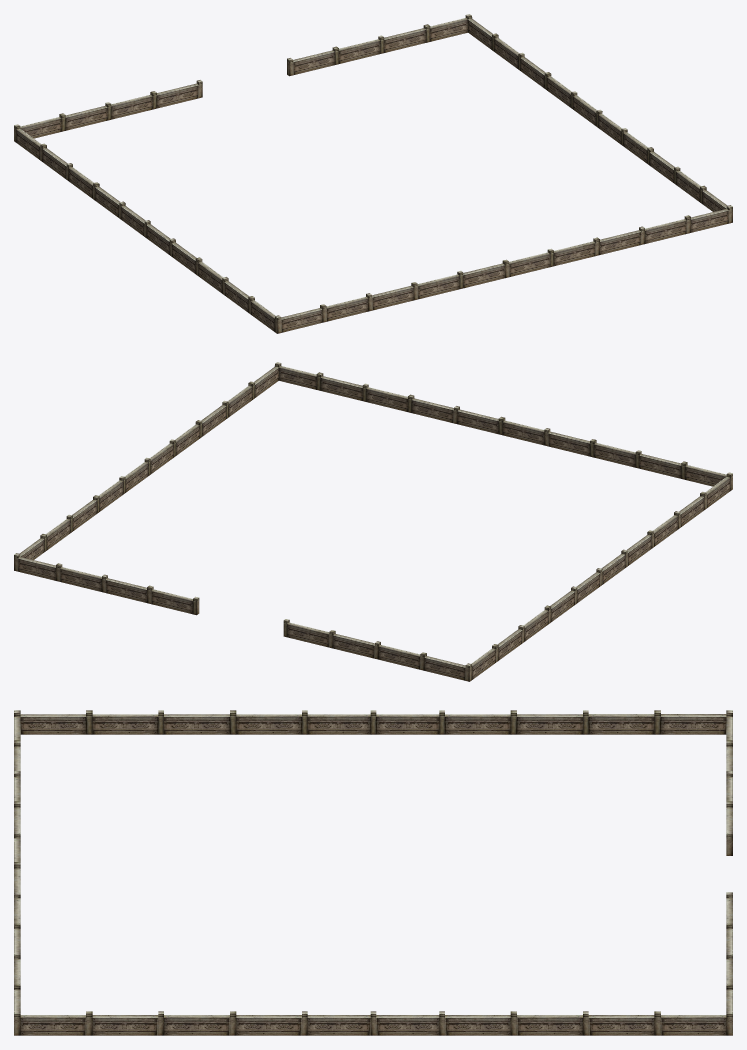
Rendered from lan03.obj.
The picture shows the model from 3 angles, top to bottom: view 1: azimuth 30°, elevation 25°; view 2: azimuth 150°, elevation 25°; view 3: azimuth 270°, elevation 25°; orthographic projection. The views are drawn at different scales.
Visible parts, largest first — view 1: lan03; view 2: lan03; view 3: lan03.
Boxes of the visible parts, x1,y1,x2,y2 form: lan03: (14, 14, 732, 333); lan03: (14, 362, 732, 681); lan03: (14, 710, 732, 1035).
Size of the model in its own units: 600 by 20.14 by 600.
